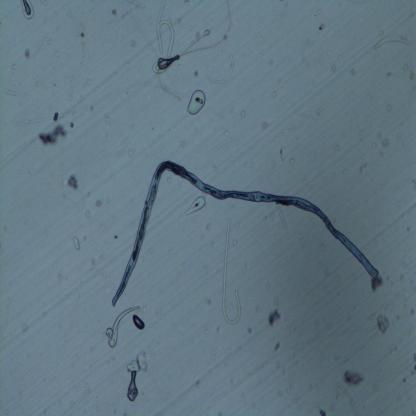Air bubble: (127, 372, 140, 402)
Background material: (209, 0, 236, 51), (39, 109, 67, 147), (338, 363, 367, 388), (128, 351, 151, 374), (374, 314, 391, 336), (266, 306, 283, 327), (274, 136, 286, 163), (74, 188, 91, 206), (399, 63, 416, 81), (254, 115, 270, 134), (374, 130, 390, 149), (66, 172, 80, 192), (370, 275, 383, 294), (312, 102, 324, 118), (410, 349, 416, 380), (72, 234, 82, 252), (314, 18, 326, 33), (201, 220, 213, 235), (82, 74, 94, 88), (78, 26, 86, 43), (358, 164, 370, 175), (202, 296, 213, 307), (273, 342, 282, 353), (245, 325, 254, 336), (270, 88, 279, 99), (318, 406, 328, 414), (108, 6, 116, 16), (386, 67, 392, 78), (332, 63, 338, 74), (407, 177, 416, 184), (349, 66, 355, 76), (97, 201, 104, 209), (401, 375, 408, 382), (277, 362, 281, 372), (243, 112, 247, 118), (410, 312, 416, 316)
Cotton: (112, 154, 393, 307)
Glass filter fibre: (152, 28, 210, 74), (221, 217, 241, 325), (59, 279, 83, 358), (106, 303, 142, 350), (206, 52, 235, 87), (184, 86, 208, 120), (156, 20, 176, 58), (373, 32, 410, 51), (207, 134, 235, 155), (300, 41, 319, 68), (273, 201, 289, 229), (184, 196, 206, 215), (33, 34, 49, 59), (156, 0, 166, 29), (21, 0, 36, 19), (127, 0, 146, 11), (5, 86, 16, 97)
